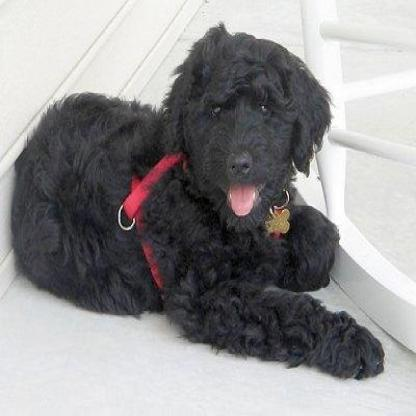standard_poodle: (9, 19, 385, 380)
